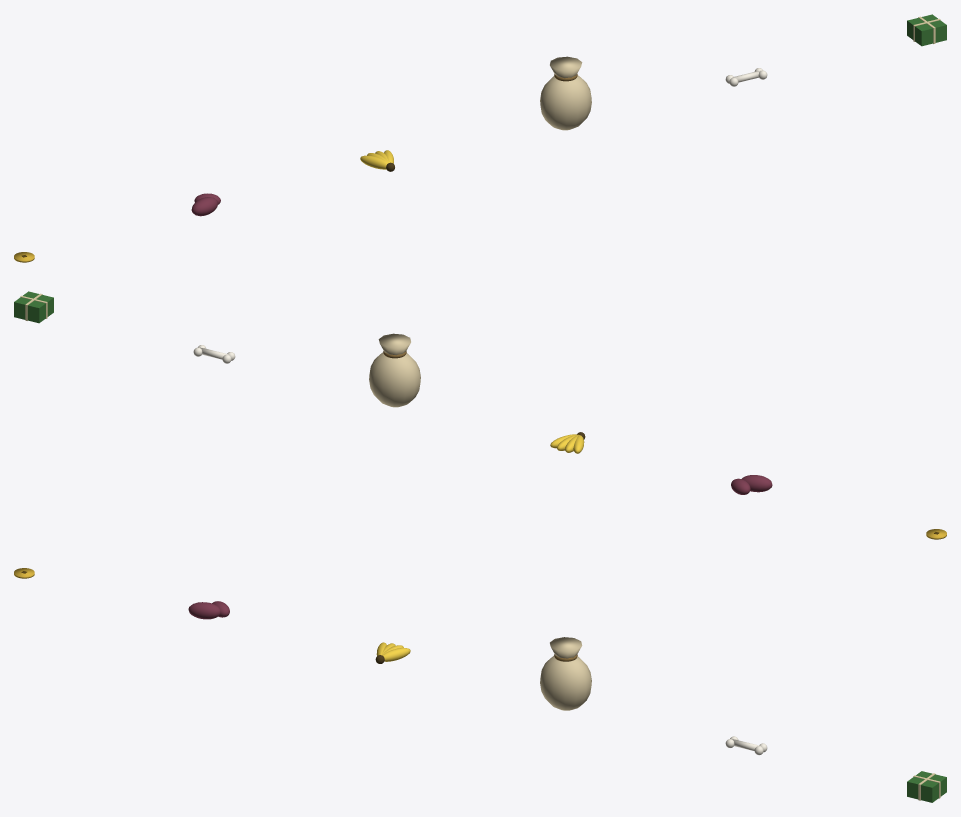
Rendered from items.glb.
3 renders of one model, top to bottom at view 1: azimuth 30°, elevation 25°; view 2: azimuth 150°, elevation 25°; view 3: azimuth 330°, elevation 25°, orthographic.
Parts seen in each view (by area): view 1: Gao, BanhChung; view 2: Gao, BanhChung, Khoai; view 3: Gao, BanhChung, Khoai, Chuoi.
Boxes of the visible parts, bbox=[...] form: Gao: bbox=[540, 56, 591, 130]; BanhChung: bbox=[907, 14, 946, 46]; Gao: bbox=[369, 333, 420, 407]; BanhChung: bbox=[14, 291, 53, 323]; Khoai: bbox=[731, 475, 772, 494]; Gao: bbox=[540, 637, 591, 710]; BanhChung: bbox=[907, 771, 946, 802]; Khoai: bbox=[188, 601, 229, 619]; Chuoi: bbox=[375, 642, 410, 663].
Size of the model in its own units: 5.12 by 0.343 by 0.2451.
